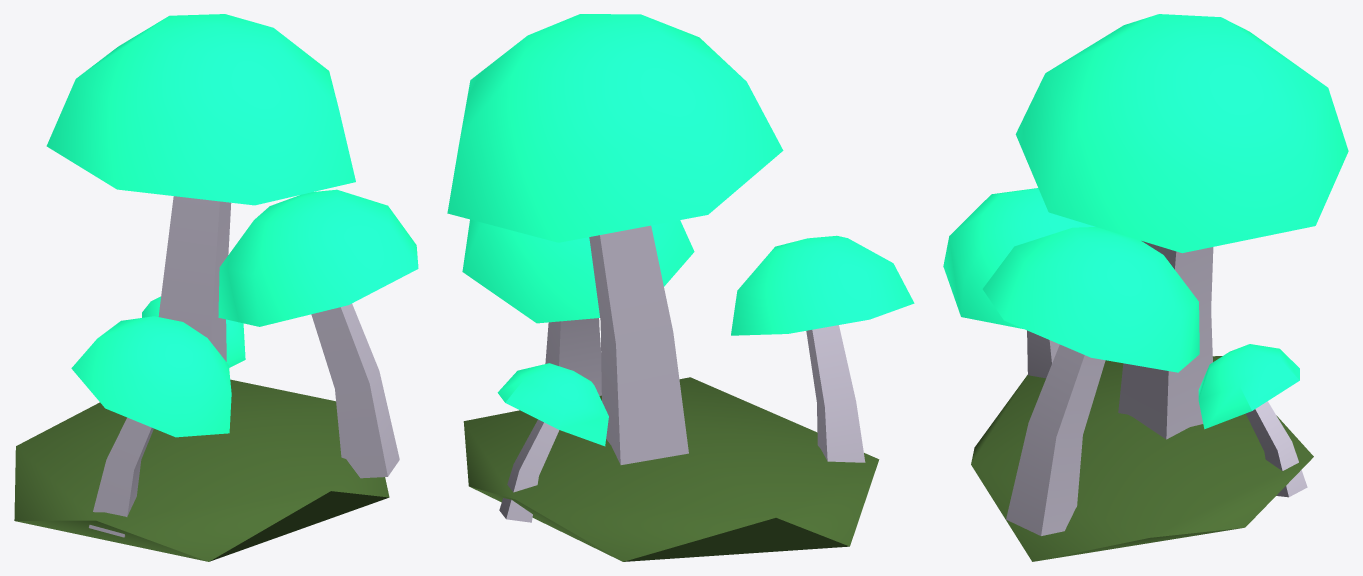
The model's file is glow_mushrooms.glb.
The picture shows the model from 3 angles, left to right: view 1: azimuth 30°, elevation 25°; view 2: azimuth 150°, elevation 25°; view 3: azimuth 270°, elevation 25°; orthographic projection. The views are drawn at different scales.
Visible parts, largest first — view 1: glow_mushrooms; view 2: glow_mushrooms; view 3: glow_mushrooms.
Part boxes in pixels (x1=…): glow_mushrooms: x1=14, y1=14, x2=418, y2=561; glow_mushrooms: x1=447, y1=14, x2=914, y2=561; glow_mushrooms: x1=943, y1=14, x2=1348, y2=561.
Size of the model in its own units: 0.2948 by 0.3397 by 0.2606.
